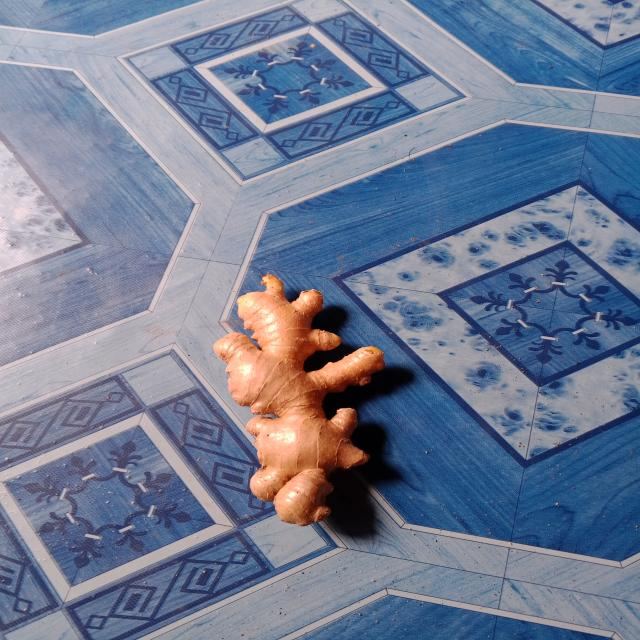ginger: (199, 265, 390, 528)
